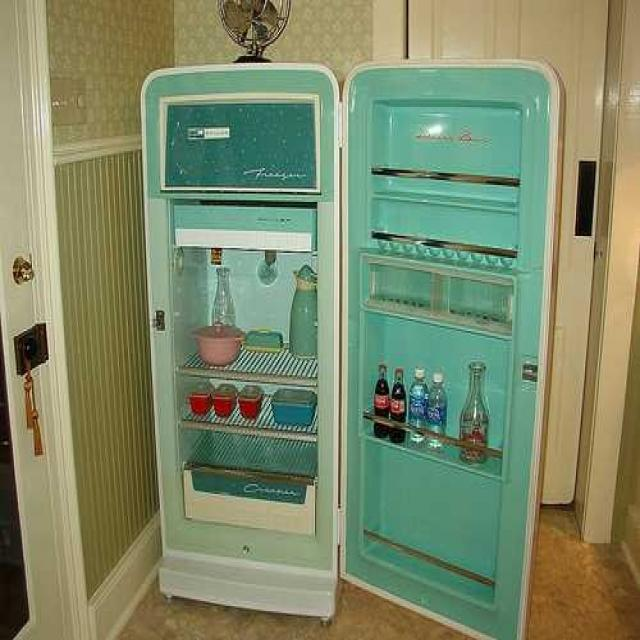refrigerator: (142, 65, 552, 640)
